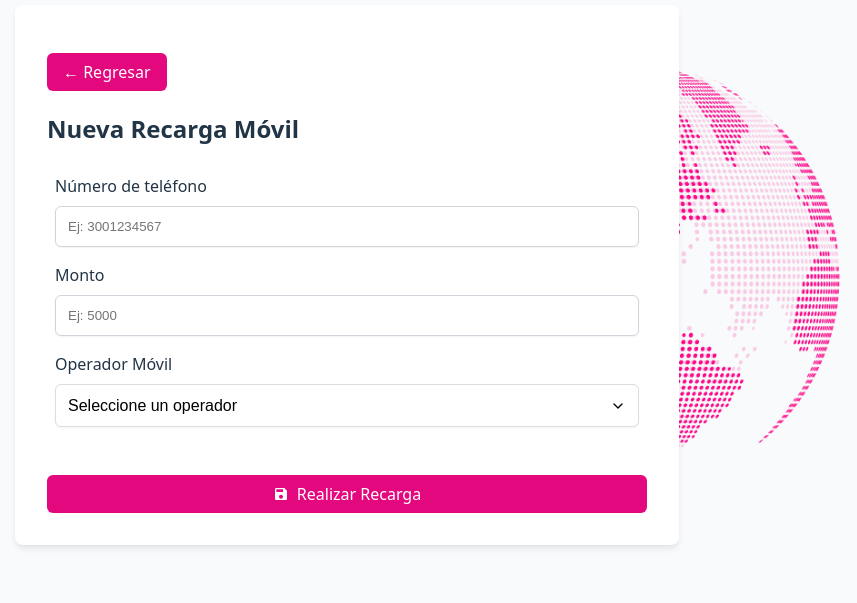
NewRecharge › muestra error si el número de teléfono es inválido
The image size is (857, 603).
Expected: the heading "Nueva Recarga Móvil" is shown, [47, 112, 299, 144]
In the number field with placeholder "Ej: 3001234567": (347, 227) [55, 206, 639, 247], type "123"
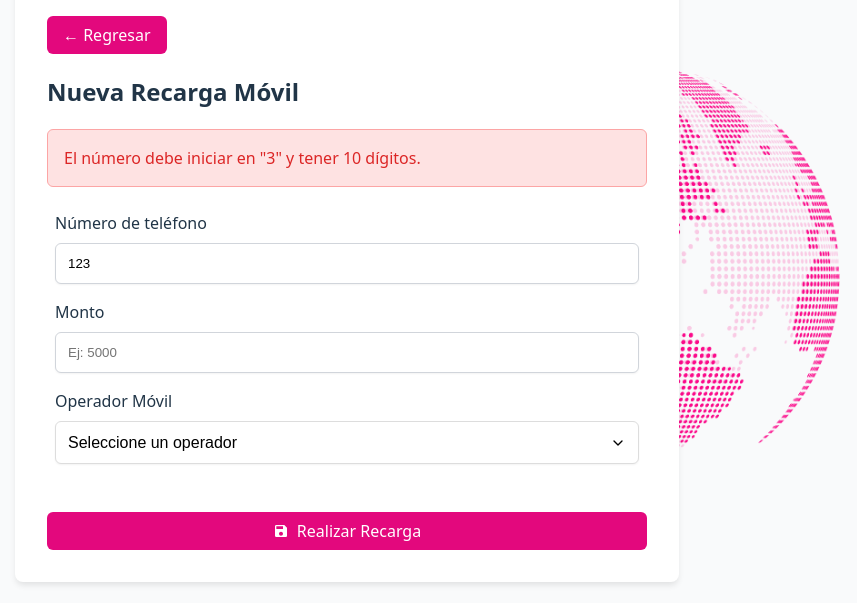
Now the text "El número debe iniciar en \"3\" y tener 10 dígitos." is shown, box [47, 129, 647, 187]
